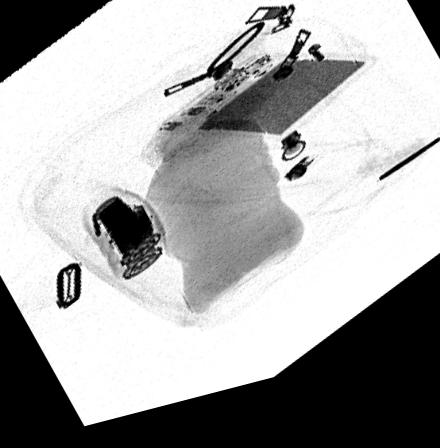Powerbank: (154, 64, 378, 157)
